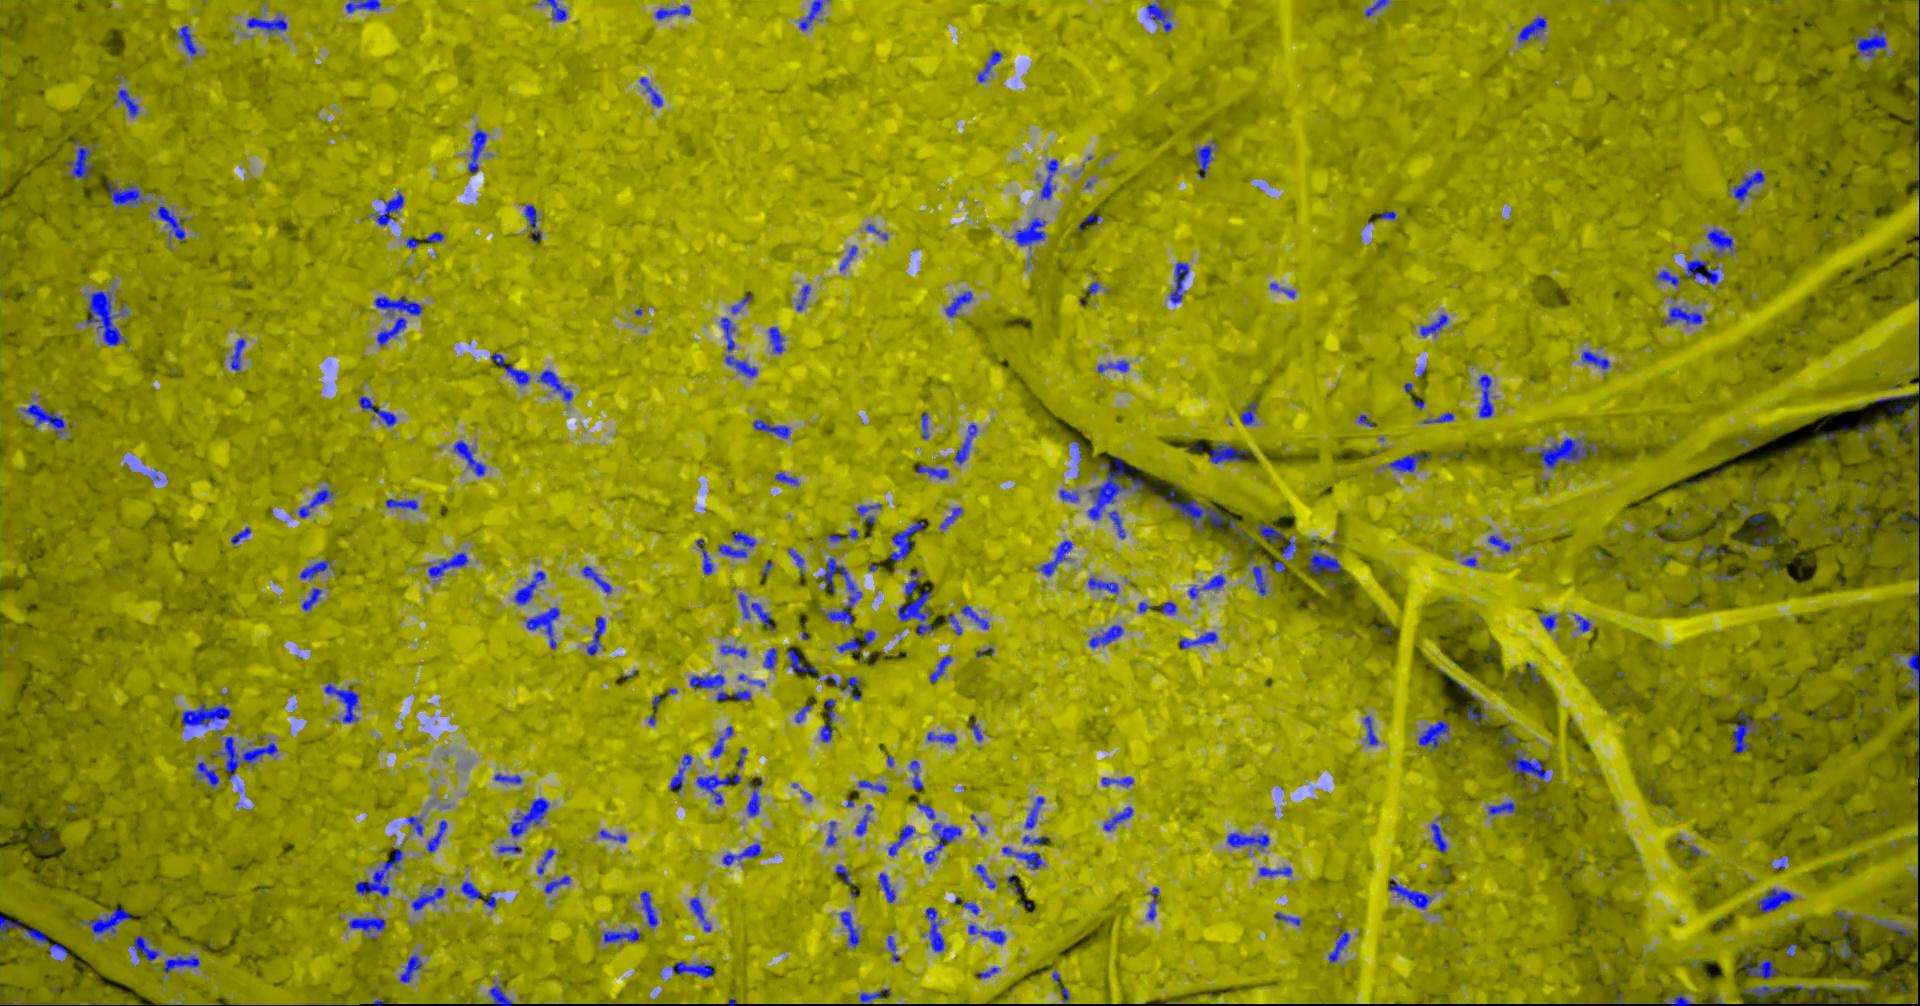ant: (1161, 483, 1255, 547), (916, 801, 961, 862), (820, 558, 861, 624), (216, 735, 277, 779), (354, 847, 403, 895), (897, 569, 932, 634), (85, 290, 124, 345), (720, 318, 757, 377), (1539, 437, 1594, 467), (509, 796, 549, 837), (889, 520, 924, 561), (524, 606, 559, 649), (695, 772, 740, 804), (1506, 752, 1549, 785), (1387, 878, 1431, 909), (22, 404, 63, 437), (323, 683, 358, 721), (738, 593, 775, 629), (80, 908, 131, 934), (491, 352, 530, 385), (1037, 540, 1072, 575), (453, 439, 485, 476), (182, 702, 230, 727), (358, 396, 396, 426), (371, 191, 403, 225), (537, 370, 571, 401), (156, 205, 185, 241), (717, 530, 756, 558), (514, 570, 545, 605), (427, 553, 469, 577), (1853, 27, 1886, 57), (297, 488, 331, 517), (1001, 846, 1044, 869), (373, 295, 422, 315), (952, 423, 977, 464), (1382, 451, 1430, 471), (1732, 170, 1764, 201), (1011, 217, 1045, 245), (105, 179, 142, 205), (460, 882, 497, 907), (1418, 719, 1449, 749), (1187, 574, 1225, 598), (1756, 888, 1794, 912), (66, 144, 91, 179), (799, 0, 827, 30), (467, 130, 488, 171), (376, 318, 406, 345), (924, 907, 943, 951), (977, 50, 1002, 83), (1685, 259, 1718, 285), (1733, 711, 1754, 752), (1170, 260, 1189, 304), (582, 565, 611, 593), (411, 887, 444, 911), (723, 843, 759, 865), (1741, 956, 1778, 978), (1307, 553, 1341, 575), (1088, 624, 1123, 647), (943, 290, 971, 318), (130, 934, 157, 962), (787, 647, 817, 673), (888, 826, 914, 855), (1145, 0, 1171, 30), (669, 754, 691, 790), (1225, 832, 1269, 850), (585, 616, 604, 655), (968, 923, 1004, 944), (690, 897, 711, 931), (752, 419, 790, 438), (639, 890, 658, 929), (819, 699, 836, 742), (1705, 227, 1733, 253), (1209, 445, 1246, 464), (839, 911, 858, 948), (1040, 158, 1057, 199), (298, 558, 330, 579), (1663, 306, 1702, 324), (1517, 17, 1545, 41), (960, 605, 988, 629), (425, 819, 446, 852), (1328, 929, 1349, 962), (639, 76, 662, 105), (1418, 314, 1448, 337), (1478, 373, 1493, 417), (711, 727, 733, 757), (670, 962, 714, 977), (163, 955, 199, 973), (1023, 796, 1044, 828), (1103, 807, 1131, 829), (399, 954, 422, 982), (1877, 920, 1912, 937), (524, 205, 541, 243), (1178, 631, 1217, 648), (1742, 984, 1787, 998), (745, 779, 762, 815), (348, 916, 385, 932), (117, 89, 138, 117), (930, 655, 951, 683), (696, 539, 712, 574), (1907, 643, 1919, 694), (196, 761, 218, 786), (1581, 349, 1609, 370), (1194, 145, 1211, 177), (246, 17, 286, 30), (178, 25, 196, 56), (1087, 575, 1117, 593), (855, 804, 872, 835), (857, 503, 881, 525), (938, 507, 963, 528), (0, 915, 22, 939), (1430, 823, 1448, 852), (877, 873, 895, 902), (603, 929, 640, 942), (1257, 523, 1284, 542), (916, 464, 949, 479), (654, 5, 690, 19), (1107, 511, 1125, 539), (543, 0, 566, 22), (975, 864, 996, 888), (230, 338, 245, 370), (1137, 601, 1175, 614), (954, 895, 979, 915), (690, 674, 724, 688), (543, 875, 570, 893), (301, 587, 321, 610), (1363, 715, 1378, 746), (489, 984, 512, 1005), (839, 245, 857, 271), (536, 848, 554, 874), (836, 636, 858, 655), (1145, 887, 1158, 920), (1252, 565, 1266, 594), (1077, 213, 1100, 231), (1269, 282, 1295, 297), (768, 326, 783, 353), (1239, 401, 1257, 424), (787, 547, 803, 574), (1364, 0, 1388, 17), (345, 0, 380, 11), (795, 285, 810, 310), (730, 293, 750, 312), (1097, 359, 1128, 372), (1465, 705, 1484, 725), (1498, 728, 1517, 748), (1006, 874, 1025, 894), (23, 927, 48, 942), (1655, 269, 1677, 286), (1487, 535, 1510, 551), (909, 760, 922, 789), (385, 498, 417, 509), (737, 673, 764, 686), (858, 780, 886, 793), (858, 991, 884, 1005), (865, 224, 888, 239), (1281, 536, 1297, 559), (846, 676, 861, 699), (926, 732, 956, 743), (794, 704, 811, 723), (1487, 801, 1514, 814), (599, 829, 626, 842), (1274, 912, 1300, 925), (886, 935, 899, 962), (1258, 866, 1291, 876), (1423, 412, 1453, 423), (1743, 514, 1765, 530), (1525, 661, 1540, 682), (720, 644, 745, 657), (1101, 776, 1133, 786), (406, 815, 423, 835), (230, 527, 250, 542), (763, 647, 777, 668), (1539, 612, 1556, 630), (1573, 614, 1590, 631), (775, 473, 797, 485), (947, 614, 961, 634), (1874, 394, 1911, 401), (1895, 420, 1919, 432), (1669, 993, 1693, 1005), (1703, 542, 1724, 555), (836, 865, 851, 883), (48, 942, 67, 956), (1022, 835, 1048, 845), (493, 774, 521, 782), (970, 719, 982, 741), (825, 821, 836, 845), (1841, 937, 1854, 956), (978, 967, 998, 978), (1059, 489, 1078, 500), (1836, 912, 1848, 931), (921, 412, 928, 439), (425, 231, 443, 243), (1763, 560, 1780, 572), (733, 688, 750, 700), (495, 845, 521, 852), (1269, 560, 1285, 572), (737, 747, 745, 767), (1377, 210, 1396, 218), (863, 630, 874, 644), (1462, 558, 1477, 567), (1917, 431, 1919, 484)
